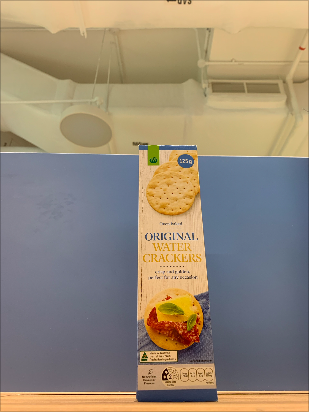Crackers_100-199g: (139, 151, 210, 384)
